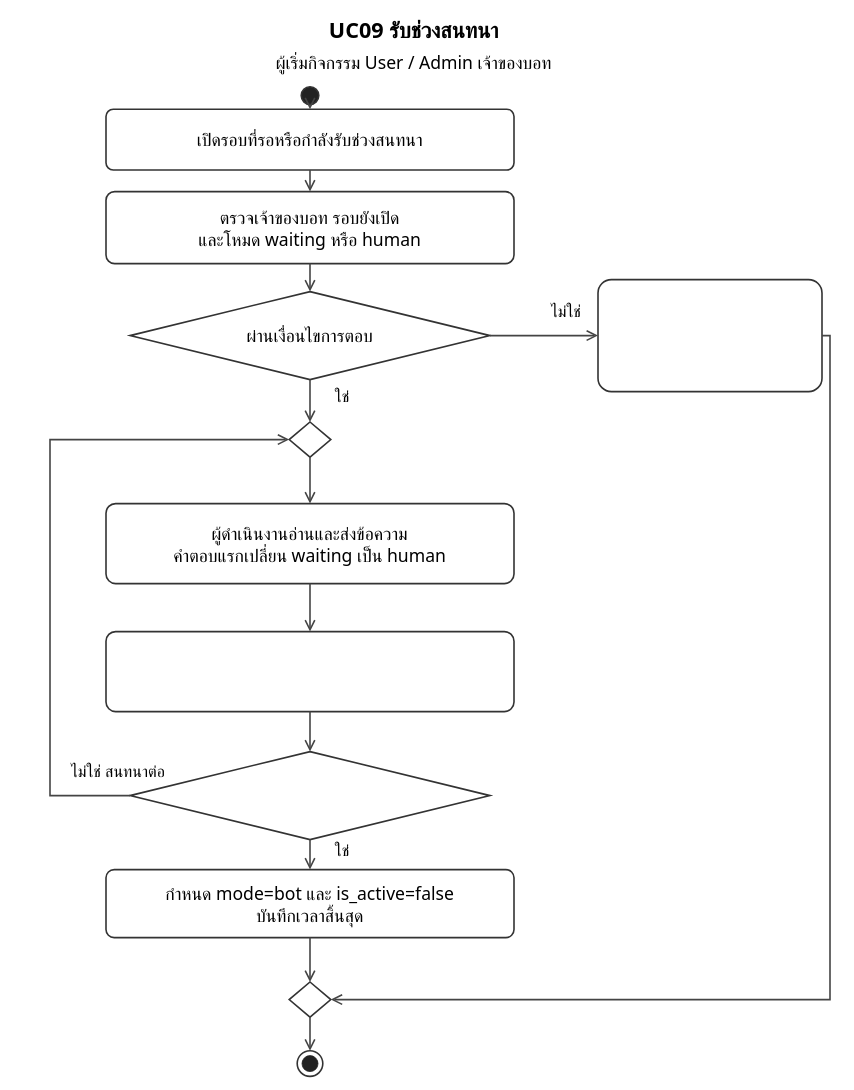
This 854x1090 diagram has some shape labels left out. Here are the shapes that lost their labels. From the top down, the centre of each, then its label:
point 709,335: แจ้งไม่มีสิทธิ์ หรือสถานะรอบไม่ถูกต้อง ไม่ส่งคำตอบ
point 309,671: บันทึกข้อความและสถานะจัดการแล้ว ส่งผ่าน LINE หรือให้เว็บดึงข้อความ
point 309,795: ผู้ดำเนินงานเลือกจบการสนทนา
